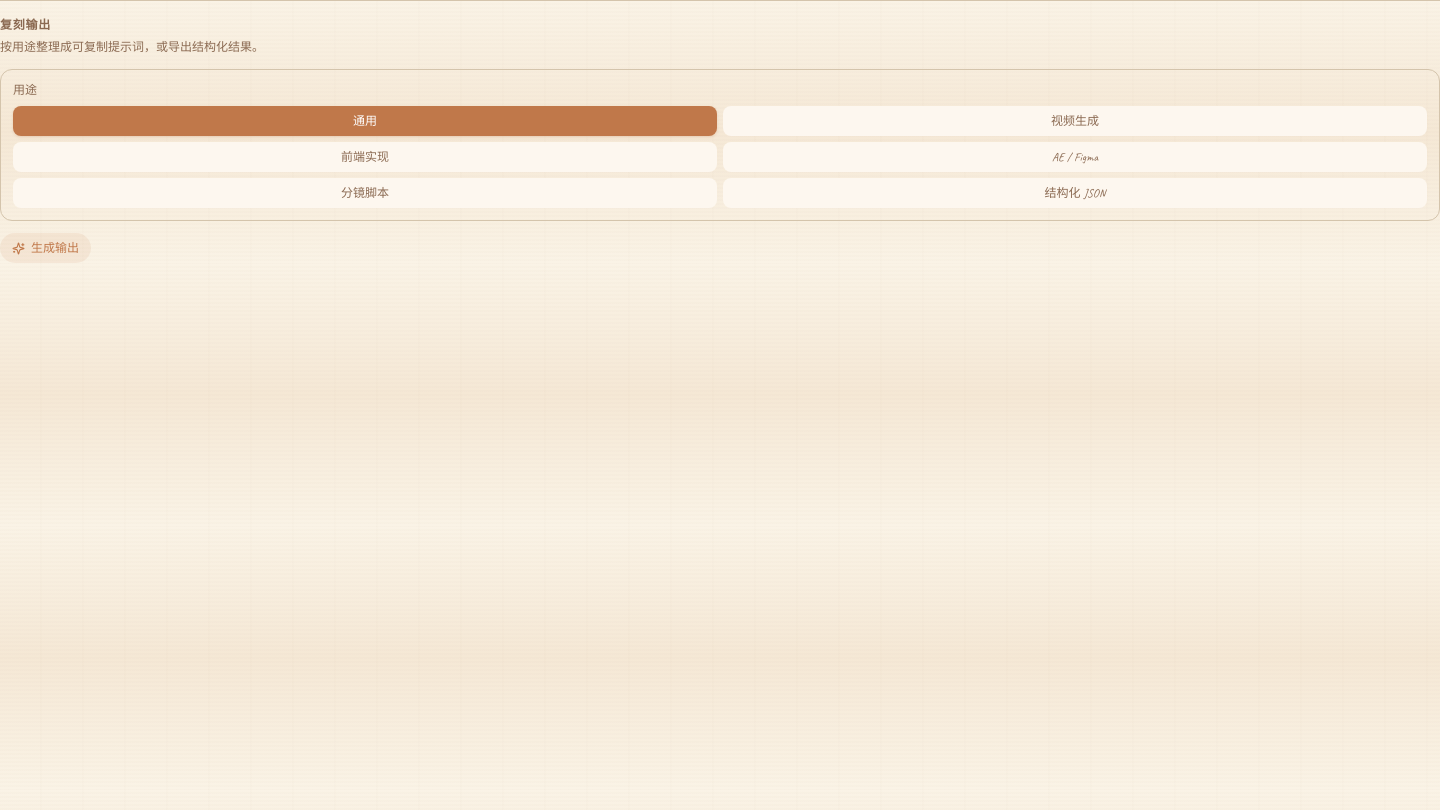
Scenario: VideoPromptPanel › switches purpose and reloads existing output
Click the button "前端实现" at (365, 157), box [13,142,717,172]
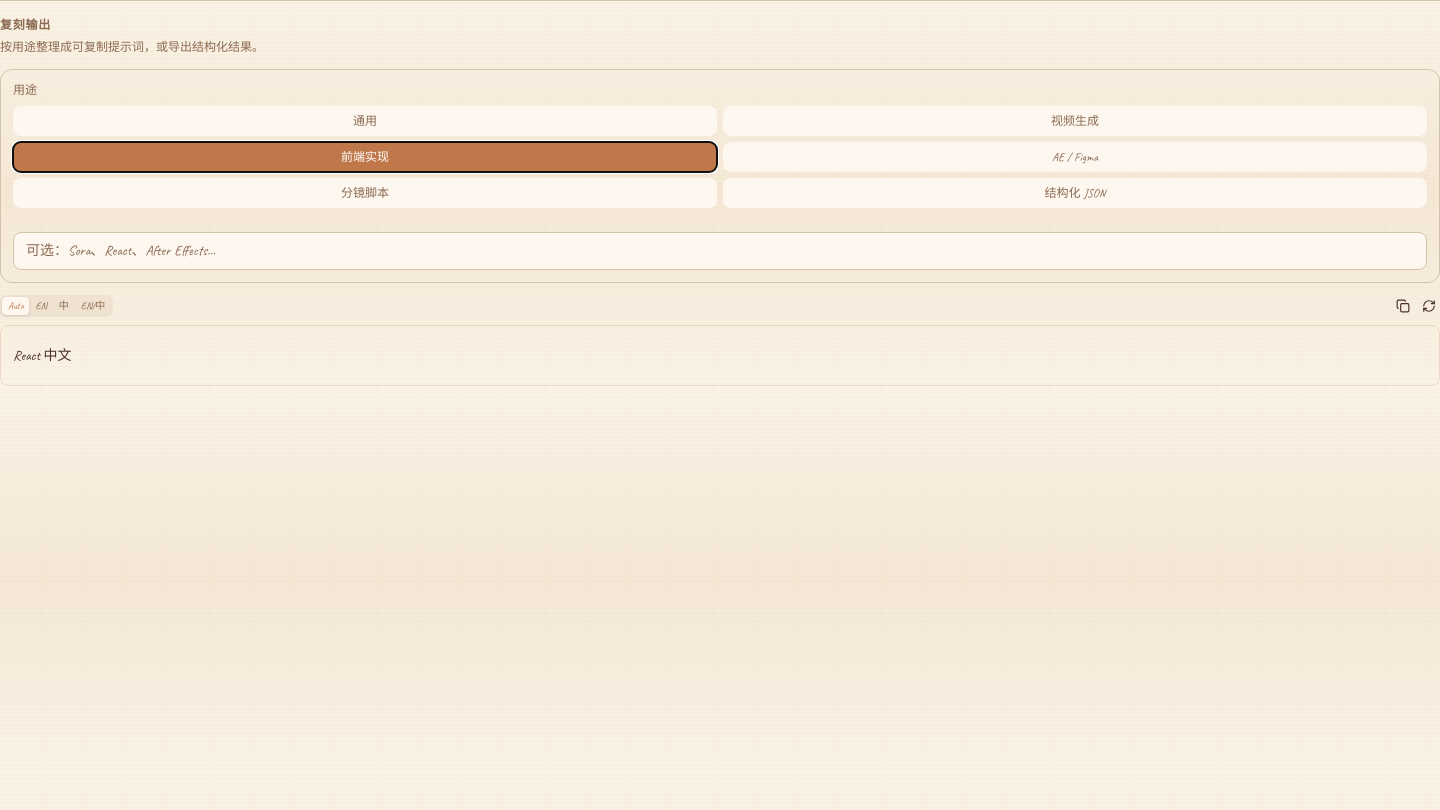
Expected: the text "React 中文" is shown, [13,347,72,364]
